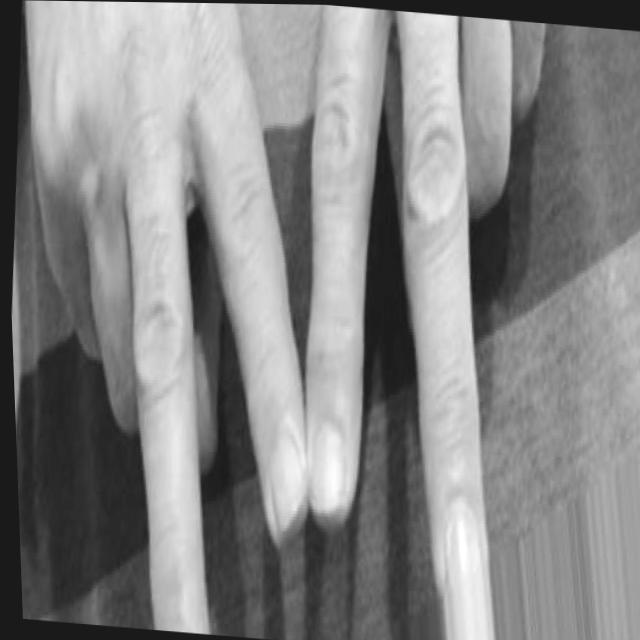M: (0, 0, 571, 640)
